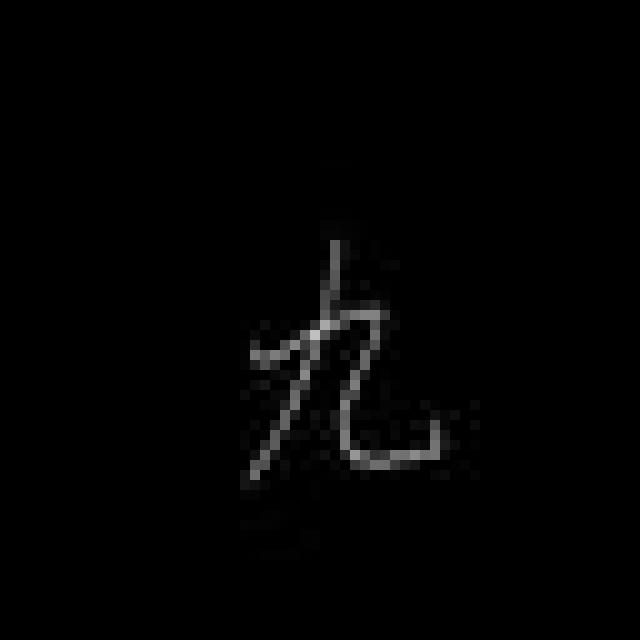9 -nine-: (240, 234, 448, 484)
